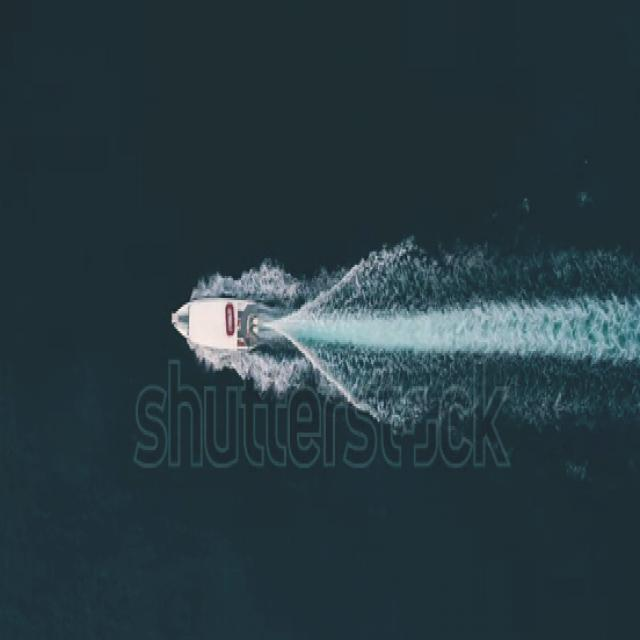ship: (166, 289, 277, 355)
